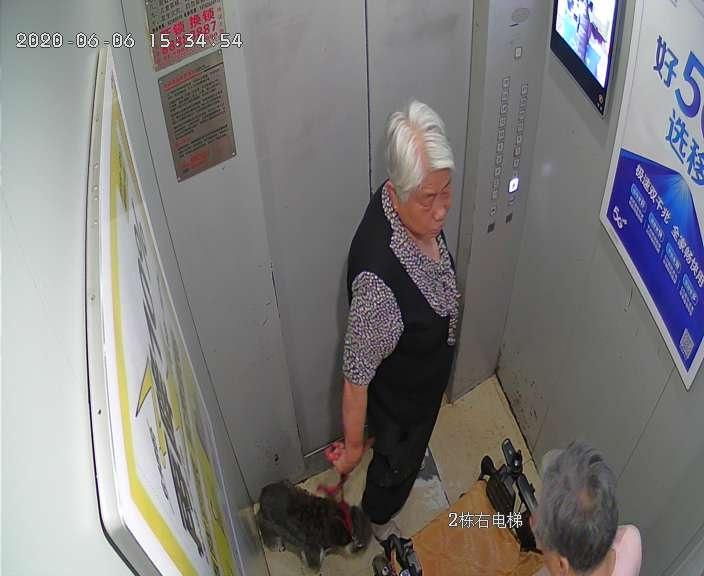person: (338, 101, 463, 526), (533, 442, 640, 576)
